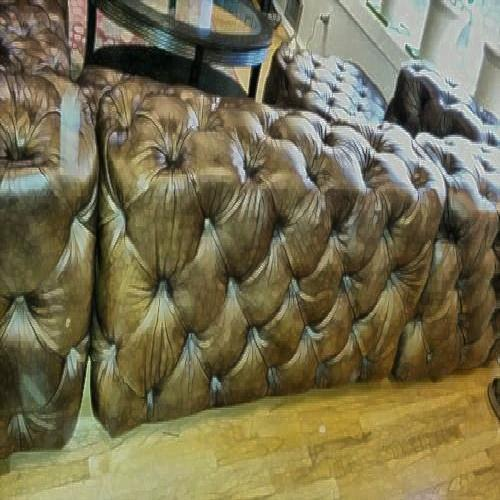sofa: (69, 57, 490, 402)
